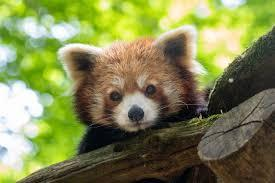Non_Gorille: (48, 13, 224, 141)
